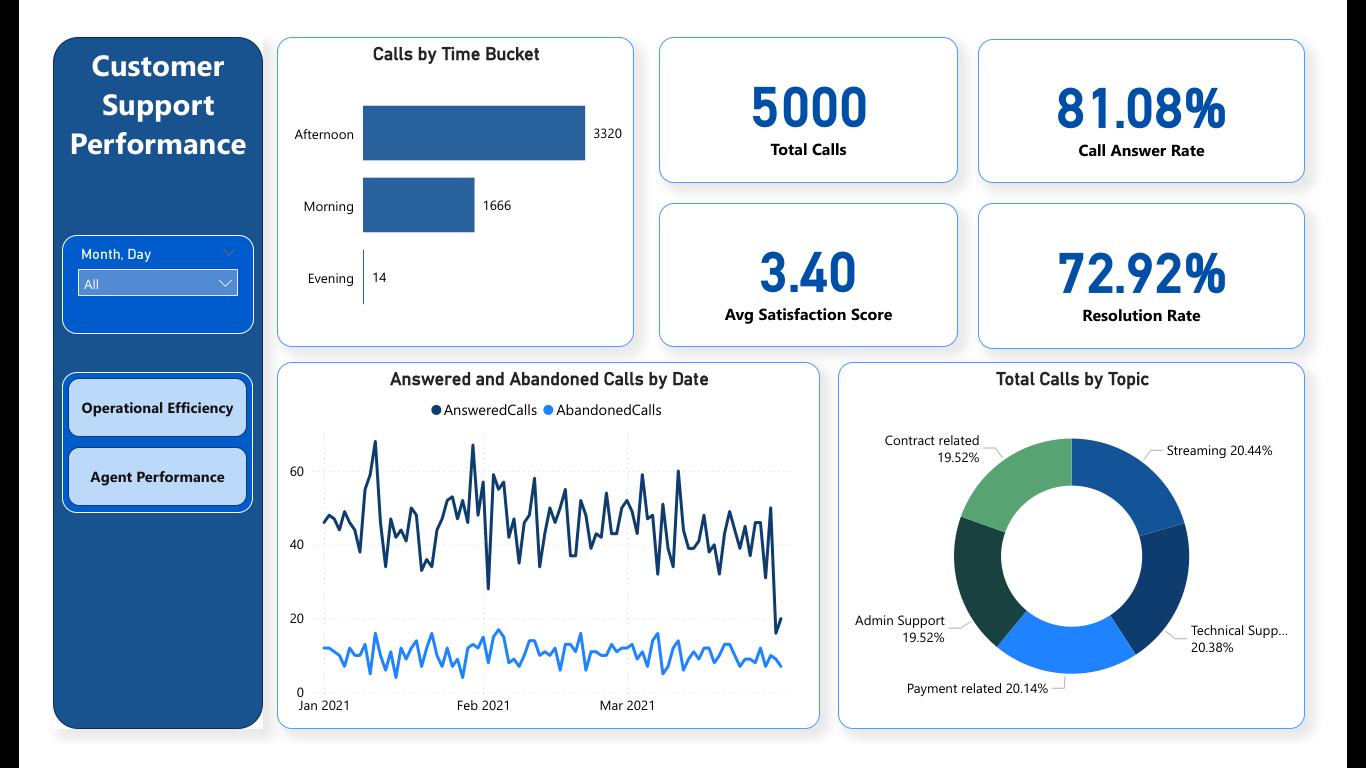

Layout of this report page (visuals, bound fields, positions):
{"tool":"powerbi","page":{"name":"Executive Summary","canvas":[1280,720],"ordinal":0},"visuals":[{"type":"shape","box":[10.3,13.2,210.1,692.1],"z":0},{"type":"clusteredBarChart","title":"Calls by Time Bucket","fields":{"Category":["CallCentreDataTable.Time Bucket"],"Y":["MeasuresTable.CallsByTimeBucket"]},"box":[233.6,13.2,357.1,310],"z":1000},{"type":"donutChart","title":"Total Calls by Topic","fields":{"Y":["MeasuresTable.TotalCalls"],"Category":["CallCentreDataTable.Topic"]},"box":[794.9,338,467.3,367.3],"z":2000},{"type":"lineChart","title":"Answered and Abandoned Calls by Date","fields":{"Y":["MeasuresTable.AnsweredCalls","MeasuresTable.AbandonedCalls"],"Category":["DatesTable.Date.Variation.Date Hierarchy.Year","DatesTable.Date.Variation.Date Hierarchy.Quarter","DatesTable.Date.Variation.Date Hierarchy.Month","DatesTable.Date.Variation.Date Hierarchy.Day"]},"box":[233.6,338,543.7,367.3],"z":3000},{"type":"card","fields":{"Values":["MeasuresTable.TotalCalls"]},"box":[615.7,13.2,299.8,145.5],"z":4000},{"type":"card","fields":{"Values":["MeasuresTable.CallAnswerRate"]},"box":[934.5,14.7,327.7,144],"z":5000},{"type":"card","fields":{"Values":["MeasuresTable.Resolution Rate"]},"box":[934.5,179.3,327.7,145.5],"z":6000},{"type":"card","fields":{"Values":["MeasuresTable.Avg Satisfaction Score"]},"box":[615.7,179.3,299.8,144],"z":7000},{"type":"slicer","fields":{"Values":["DatesTable.Date.Variation.Date Hierarchy.Month","DatesTable.Date.Variation.Date Hierarchy.Day"]},"box":[19.3,210.6,191.3,99.1],"z":8000},{"type":"pageNavigator","box":[19.1,348.2,191,141.1],"z":8501}]}

Visuals, with their boxes in screenshot pixels (x1, y1, x2, y2), scaled from the page's 1280x720 canvas onto the 1366x768 screenshot:
shape: crop(11, 14, 235, 752)
"Calls by Time Bucket" clusteredBarChart: crop(249, 14, 630, 345)
"Total Calls by Topic" donutChart: crop(848, 361, 1347, 752)
"Answered and Abandoned Calls by Date" lineChart: crop(249, 361, 830, 752)
card - MeasuresTable.TotalCalls: crop(657, 14, 977, 169)
card - MeasuresTable.CallAnswerRate: crop(997, 16, 1347, 169)
card - MeasuresTable.Resolution Rate: crop(997, 191, 1347, 346)
card - MeasuresTable.Avg Satisfaction Score: crop(657, 191, 977, 345)
slicer - DatesTable.Date.Variation.Date Hierarchy.Month x DatesTable.Date.Variation.Date Hierarchy.Day: crop(21, 225, 225, 330)
pageNavigator: crop(20, 371, 224, 522)
